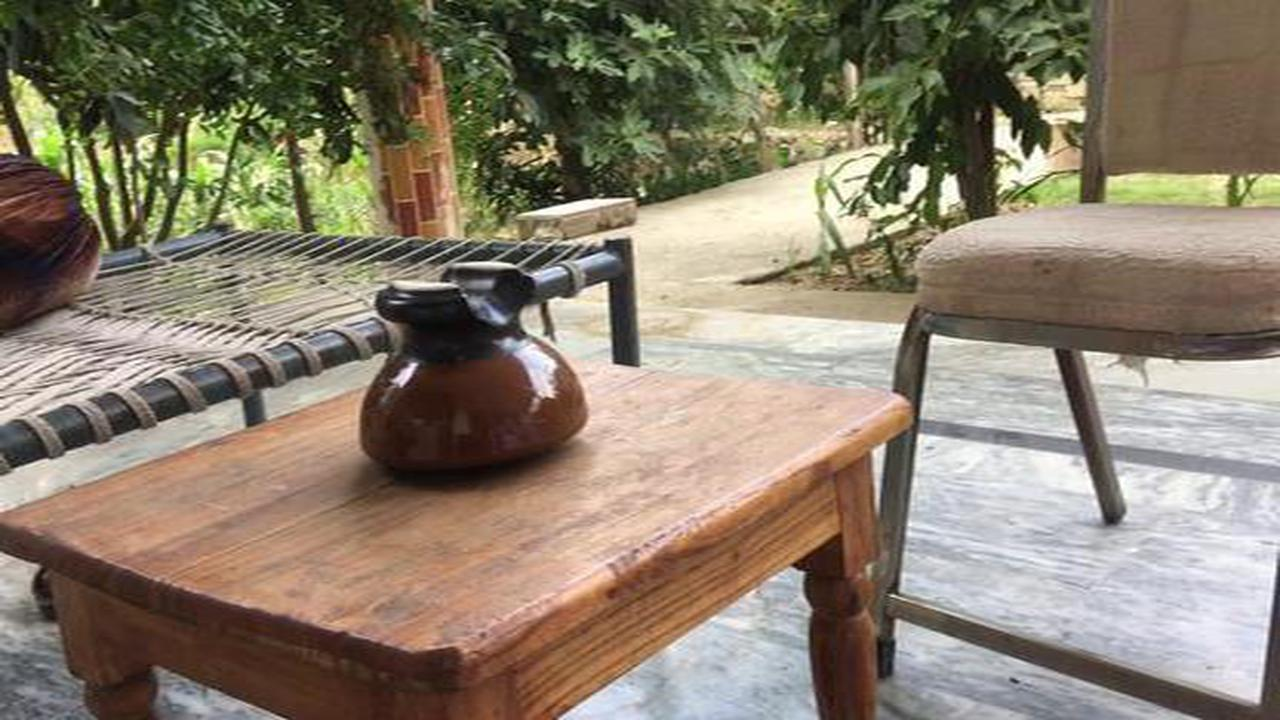insulator_pin: (345, 257, 597, 492)
